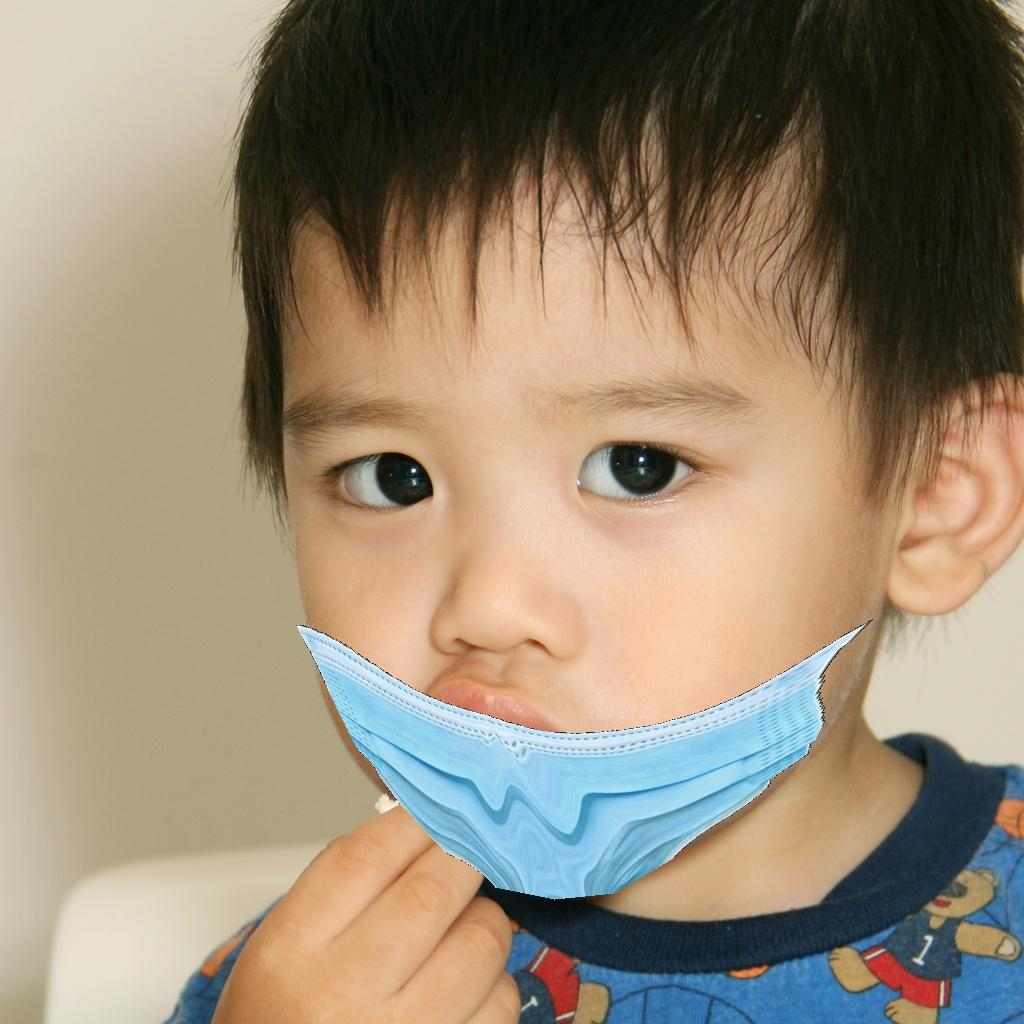Máscara Incorreta: (278, 278, 860, 881)
